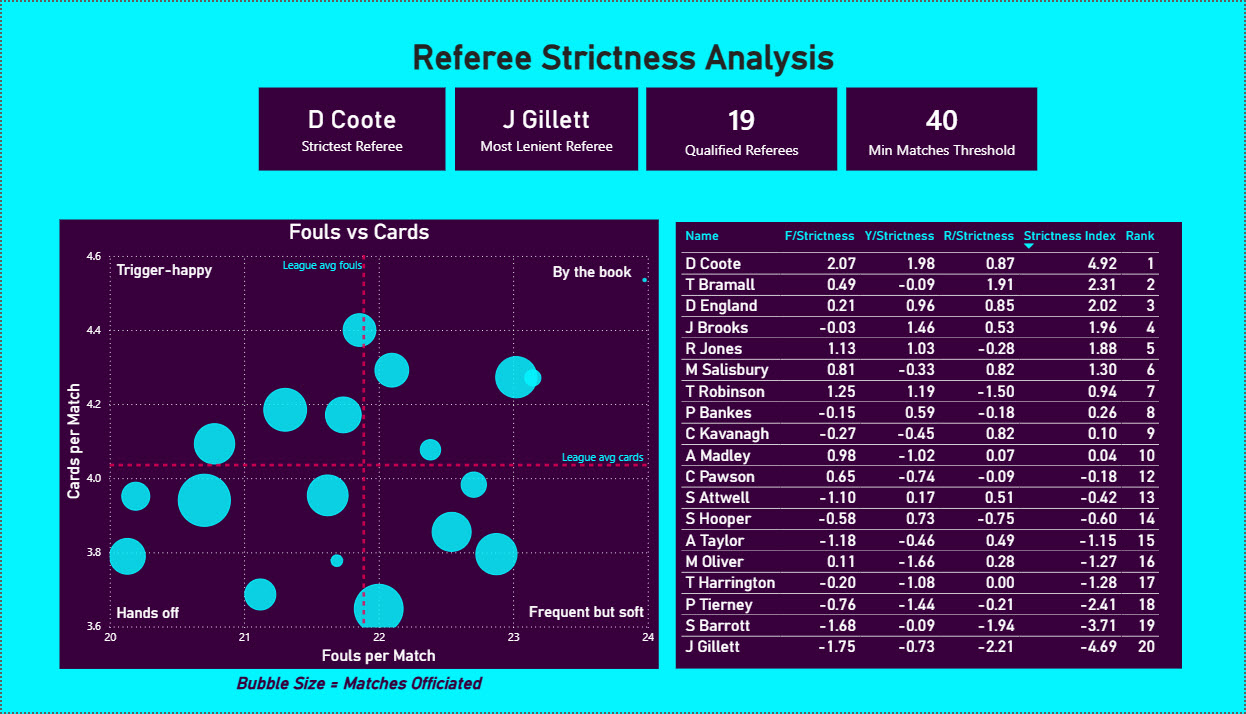

The dashboard page shown, as its layout file describes it:
{"tool":"powerbi","page":{"name":"Referee Strictness","canvas":[1400,800],"ordinal":0},"visuals":[{"type":"cardVisual","fields":{"Data":["dim_referee.Strictest Referee"]},"box":[285,91.7,220,103.3],"z":1000},{"type":"cardVisual","fields":{"Data":["dim_referee.Most Lenient Referee"]},"box":[505,91.7,216.7,103.3],"z":2000},{"type":"tableEx","fields":{"Values":["dim_referee.referee_name","dim_referee.Z Fouls","dim_referee.Z Yellow Cards","dim_referee.Z Red Cards","dim_referee.Strictness Index","dim_referee.Strictness Rank"]},"box":[759.3,248.3,570,503.3],"z":6000},{"type":"cardVisual","fields":{"Data":["dim_referee.Min Matches Threshold"]},"box":[946.7,91.7,225,103.3],"z":7000},{"type":"cardVisual","fields":{"Data":["dim_referee.Qualified Referees"]},"box":[721.7,91.7,225,103.3],"z":8000},{"type":"textbox","box":[0,35,1400,56.7],"z":9000},{"type":"scatterChart","title":"Fouls vs Cards","fields":{"X":["dim_referee.Fouls per Match"],"Category":["dim_referee.referee_name"],"Y":["dim_referee.Cards per Match"],"Size":["dim_referee.Total Matches"]},"box":[64.3,245,675,506.7],"z":10000},{"type":"textbox","box":[616,288.3,123.3,56.7],"z":11000},{"type":"textbox","box":[588.7,671.8,177.5,57.7],"z":12000},{"type":"textbox","box":[123.9,673.2,180.3,56.3],"z":13000},{"type":"textbox","box":[123.9,287.3,180.3,57.7],"z":14000},{"type":"textbox","box":[242.3,752.1,318.3,36.6],"z":14001}]}

Visuals, with their boxes in screenshot pixels (x1, y1, x2, y2), scaled from the page's 1400x800 canvas onto the 1246x714 screenshot:
cardVisual - dim_referee.Strictest Referee: <region>254, 82, 449, 174</region>
cardVisual - dim_referee.Most Lenient Referee: <region>449, 82, 642, 174</region>
tableEx - dim_referee.referee_name x dim_referee.Z Fouls: <region>676, 222, 1183, 671</region>
cardVisual - dim_referee.Min Matches Threshold: <region>843, 82, 1043, 174</region>
cardVisual - dim_referee.Qualified Referees: <region>642, 82, 843, 174</region>
textbox: <region>0, 31, 1245, 82</region>
"Fouls vs Cards" scatterChart: <region>57, 219, 658, 671</region>
textbox: <region>548, 257, 658, 308</region>
textbox: <region>524, 600, 682, 651</region>
textbox: <region>110, 601, 271, 651</region>
textbox: <region>110, 256, 271, 308</region>
textbox: <region>216, 671, 499, 704</region>
